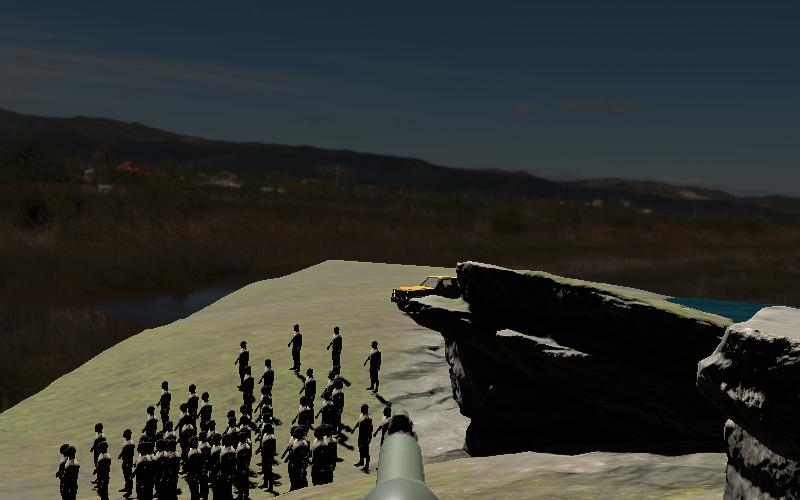Human: (53, 439, 85, 500)
car: (389, 270, 465, 314)
